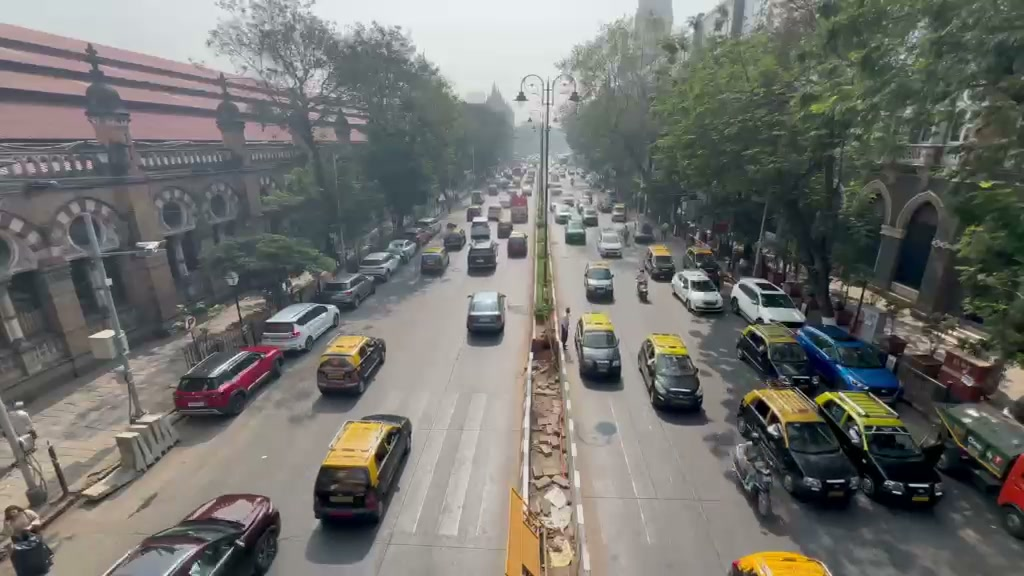bus: (466, 217, 496, 276)
car: (103, 493, 281, 575), (311, 413, 413, 524), (795, 322, 905, 403), (171, 343, 286, 417), (636, 332, 702, 412), (735, 320, 814, 386), (314, 333, 387, 395), (260, 302, 341, 353), (732, 277, 807, 326), (574, 311, 622, 381), (725, 550, 833, 575), (670, 268, 725, 316), (316, 271, 376, 311), (466, 289, 507, 338), (357, 252, 399, 283), (584, 263, 615, 302), (420, 246, 448, 276)
pedestrian: (1, 506, 54, 576)
truck: (811, 387, 946, 507), (735, 384, 859, 507), (933, 399, 1023, 491), (996, 449, 1024, 540)
